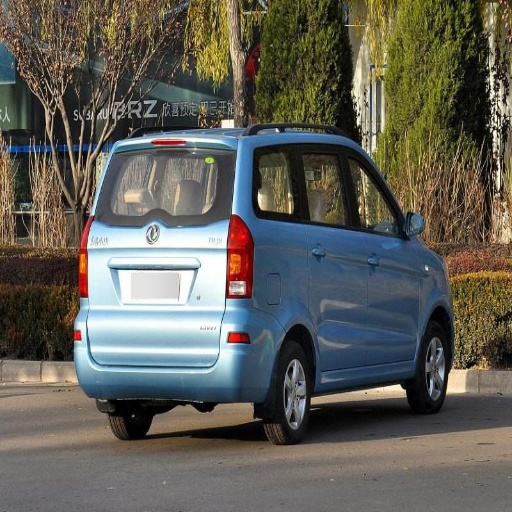back_bumper: (77, 300, 283, 399)
back_right_door: (256, 144, 371, 378)
tailgate: (88, 212, 212, 297)
trunk: (88, 216, 231, 358)
